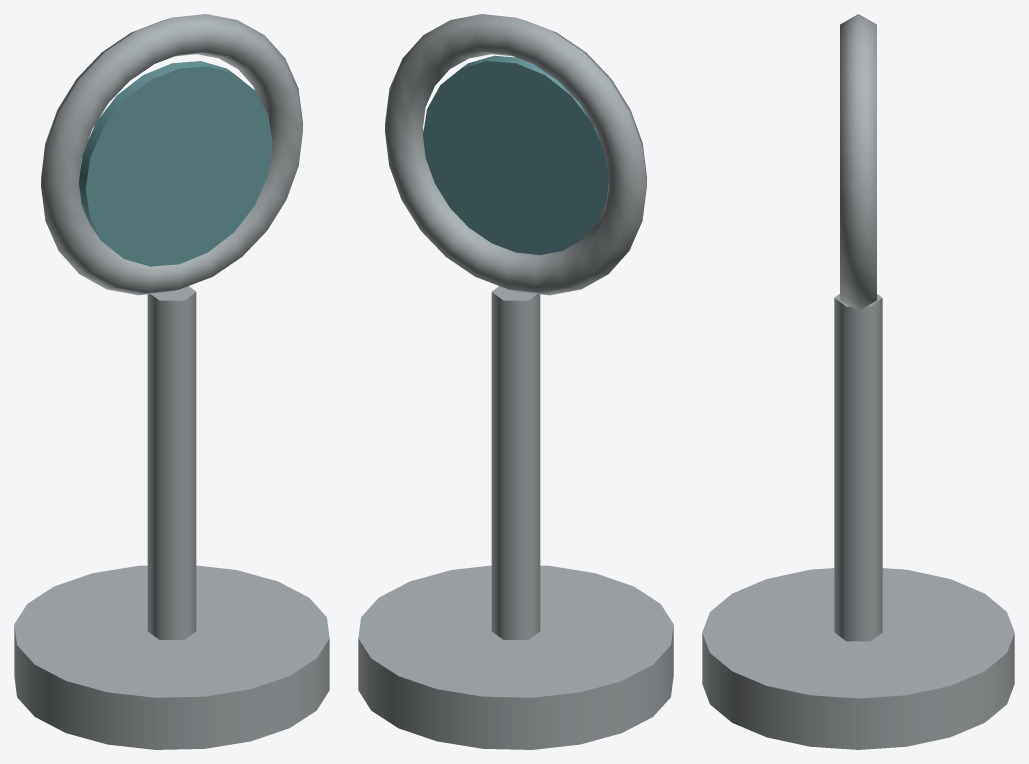
3 views of the same model, side by side, from view 1: azimuth 30°, elevation 25°; view 2: azimuth 150°, elevation 25°; view 3: azimuth 270°, elevation 25° (orthographic).
Visible parts, largest first — view 1: counterfeit-inspection-lens; view 2: counterfeit-inspection-lens; view 3: counterfeit-inspection-lens.
Part boxes in pixels (x1,y1,x2,y2): counterfeit-inspection-lens: (14, 14, 329, 749); counterfeit-inspection-lens: (358, 14, 673, 749); counterfeit-inspection-lens: (702, 14, 1014, 749).
Size of the model in its own units: 0.22 by 0.51 by 0.22.
